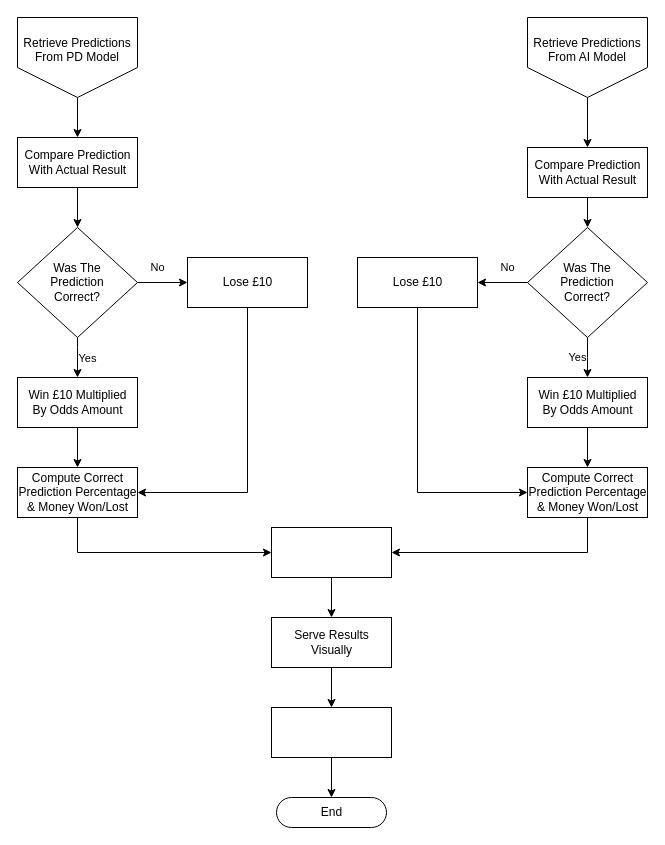
This 665x845 diagram has some shape labels left out. The centre of each missing label's shape, as x and y in pixels:
"Compare Results PD vs AI On The Same Set Of Fixtures" goes at pixel 331 552.
"Determine Best Performing Model" goes at pixel 331 732.
